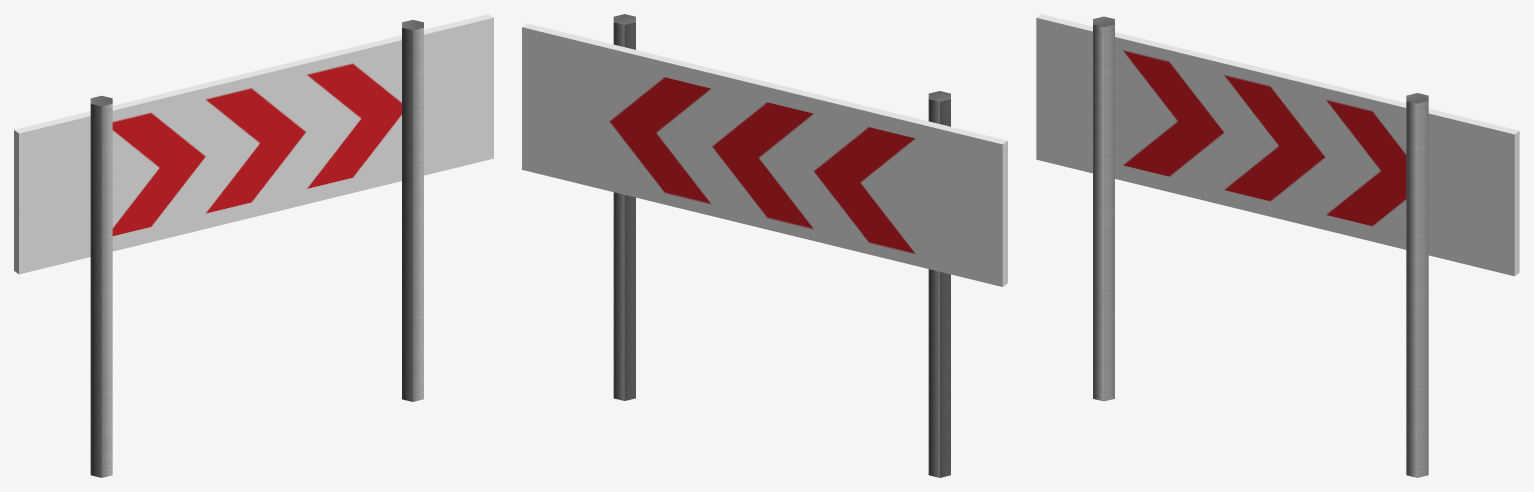
Rendered from Sign board.FBX.
3 views of the same model, side by side, from view 1: azimuth 30°, elevation 25°; view 2: azimuth 150°, elevation 25°; view 3: azimuth 330°, elevation 25° (orthographic).
Visible parts, largest first — view 1: Box002, Cylinder001, Cylinder002; view 2: Box002, Cylinder002, Cylinder001; view 3: Box002, Cylinder002, Cylinder001.
Part boxes in pixels (<box>): Box002: <box>14,14,493,274</box>; Cylinder001: <box>90,95,112,477</box>; Cylinder002: <box>402,20,423,401</box>; Box002: <box>522,23,1007,286</box>; Cylinder002: <box>613,14,635,400</box>; Cylinder001: <box>928,91,950,477</box>; Box002: <box>1036,14,1519,276</box>; Cylinder002: <box>1406,93,1428,477</box>; Cylinder001: <box>1093,16,1114,401</box>.
Size of the model in its own units: 141 by 105 by 9.43.
Materials: 1 (1 with a texture image).
